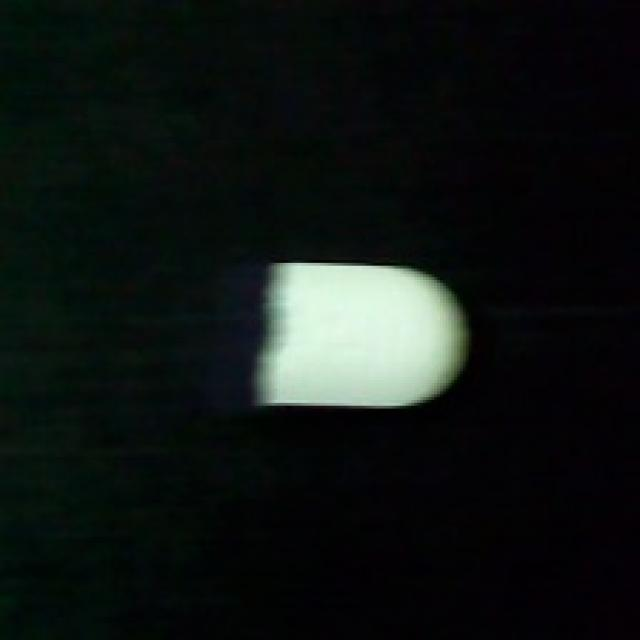defected: (251, 260, 471, 411)
